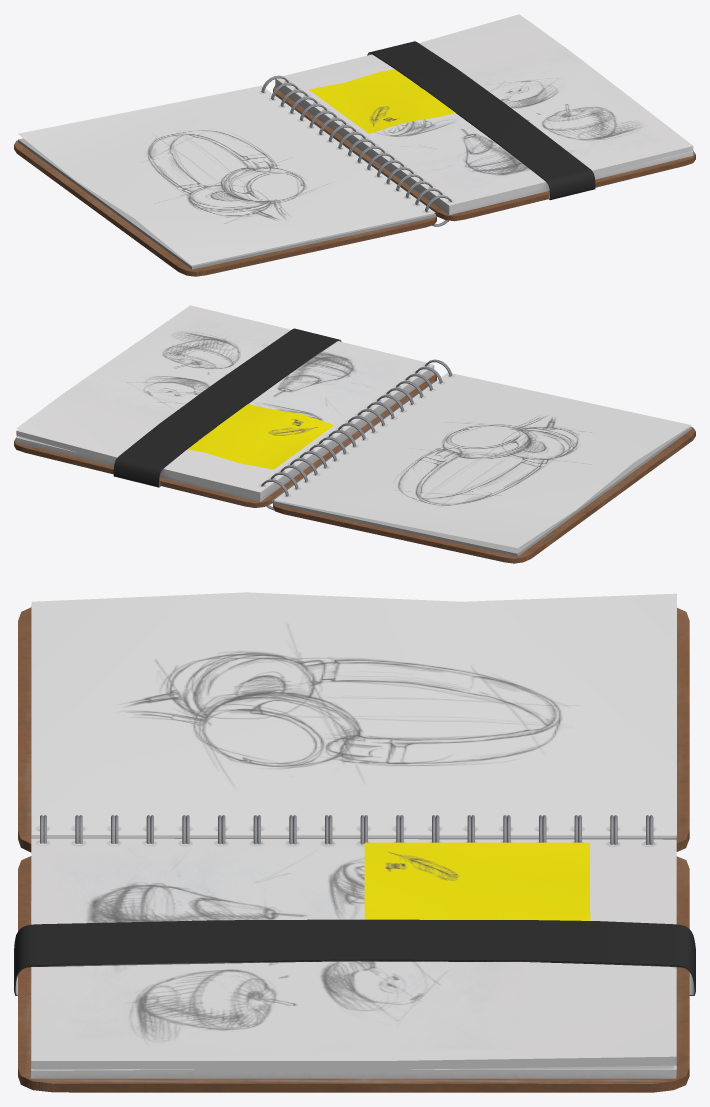
The picture shows the model from 3 angles, top to bottom: view 1: azimuth 30°, elevation 25°; view 2: azimuth 150°, elevation 25°; view 3: azimuth 270°, elevation 25°; orthographic projection. The views are drawn at different scales.
Parts seen in each view (by area): view 1: notebook_03_low, notebook_01_low, notebook_02_low, notebook_04_low; view 2: notebook_03_low, notebook_01_low, notebook_02_low, notebook_04_low; view 3: notebook_03_low, notebook_01_low, notebook_02_low, notebook_04_low.
Boxes of the visible parts, box(x1,y1,x2,y2) form: notebook_03_low: box(14, 14, 695, 276); notebook_01_low: box(261, 41, 595, 226); notebook_02_low: box(18, 79, 693, 269); notebook_04_low: box(309, 69, 455, 133); notebook_03_low: box(14, 305, 695, 563); notebook_01_low: box(113, 328, 452, 510); notebook_02_low: box(16, 365, 691, 556); notebook_04_low: box(187, 404, 334, 469); notebook_03_low: box(18, 592, 689, 1092); notebook_01_low: box(14, 815, 695, 995); notebook_02_low: box(30, 605, 676, 1078); notebook_04_low: box(364, 842, 590, 920).
Size of the model in its own units: 342 by 19.1 by 212.
1 material, 1 textured.
